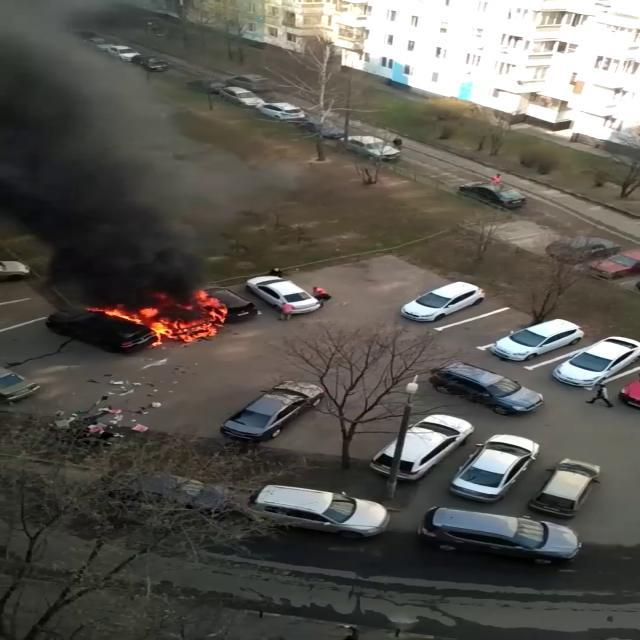Fire: (96, 290, 228, 344)
Smoke: (1, 0, 270, 291)
